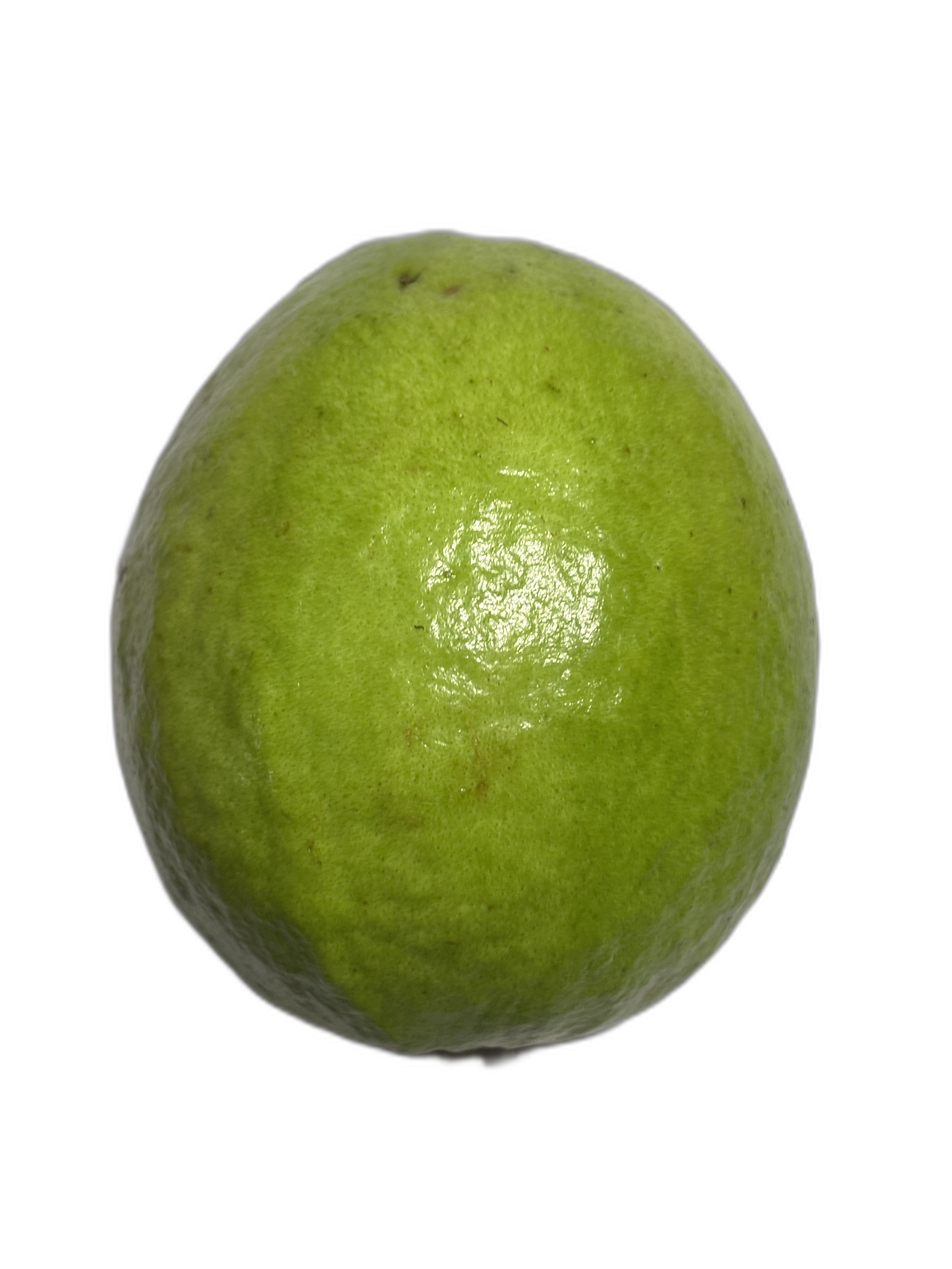guava: (98, 216, 952, 1062)
